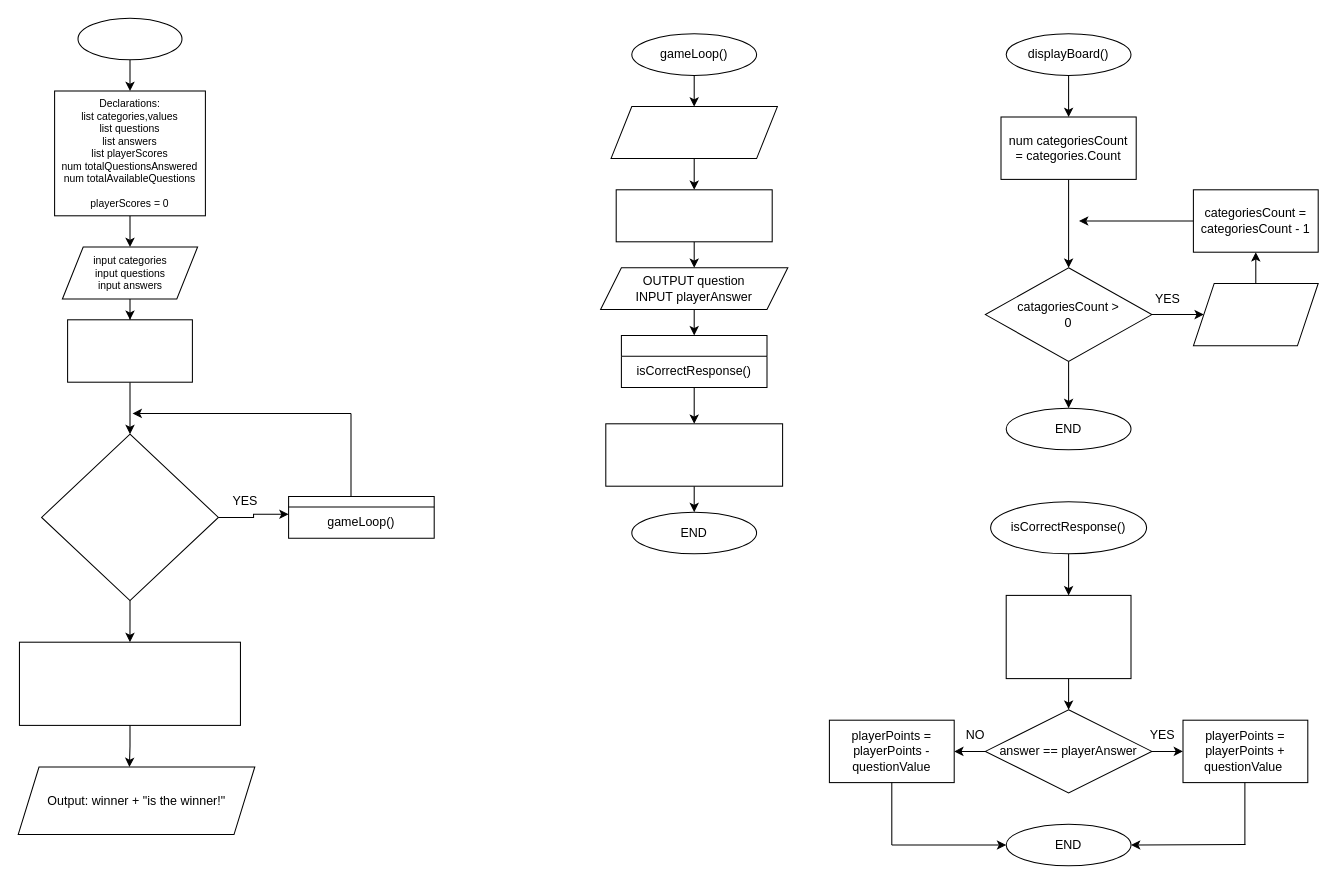
This 1336x884 diagram has some shape labels left out. Here are the shapes that lost their labels. From the top down, the centre of each, then its label:
At point (129, 38): "START".
At point (693, 132): "displayBoard() input chosenCategory input chosenValue".
At point (693, 215): "declare string currentQuestion string playerAnswer".
At point (1255, 314): "Output Category".
At point (129, 350): "Calculate: totalAvailableQuestion = questions.Count".
At point (694, 454): "totalQuestionsAnswered = totalQuestionsAnswered + 1".
At point (129, 517): "totalQuestionsAnswered < totalAvailableQuestions".
At point (1068, 636): "num questionValue string answer string playerAnswer num playerPoints".
At point (129, 683): "Calculate: Determine Highest Player Points declare: string winner".
